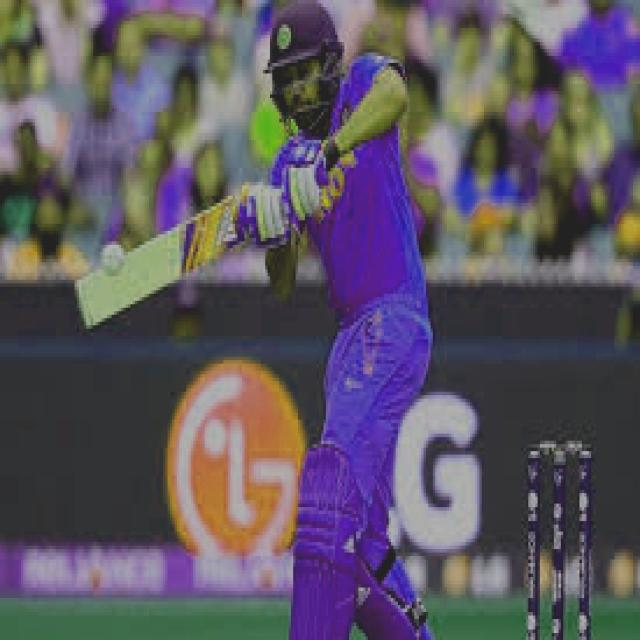toe: (71, 276, 93, 332)
